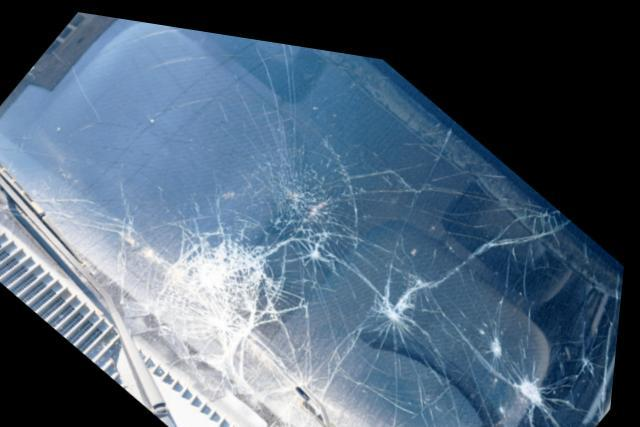glass shatter: (0, 9, 627, 427)
